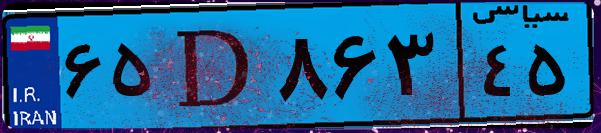3: (385, 28, 445, 110)
4: (475, 38, 525, 113)
5: (525, 38, 570, 115), (110, 28, 158, 98)
6: (330, 28, 385, 110), (57, 26, 110, 100)
8: (270, 28, 330, 110)
D: (158, 12, 270, 120)
